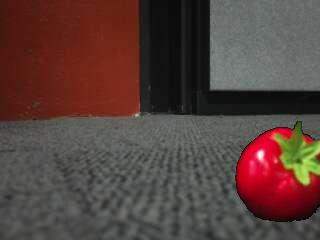Tomato: (233, 120, 320, 222)
